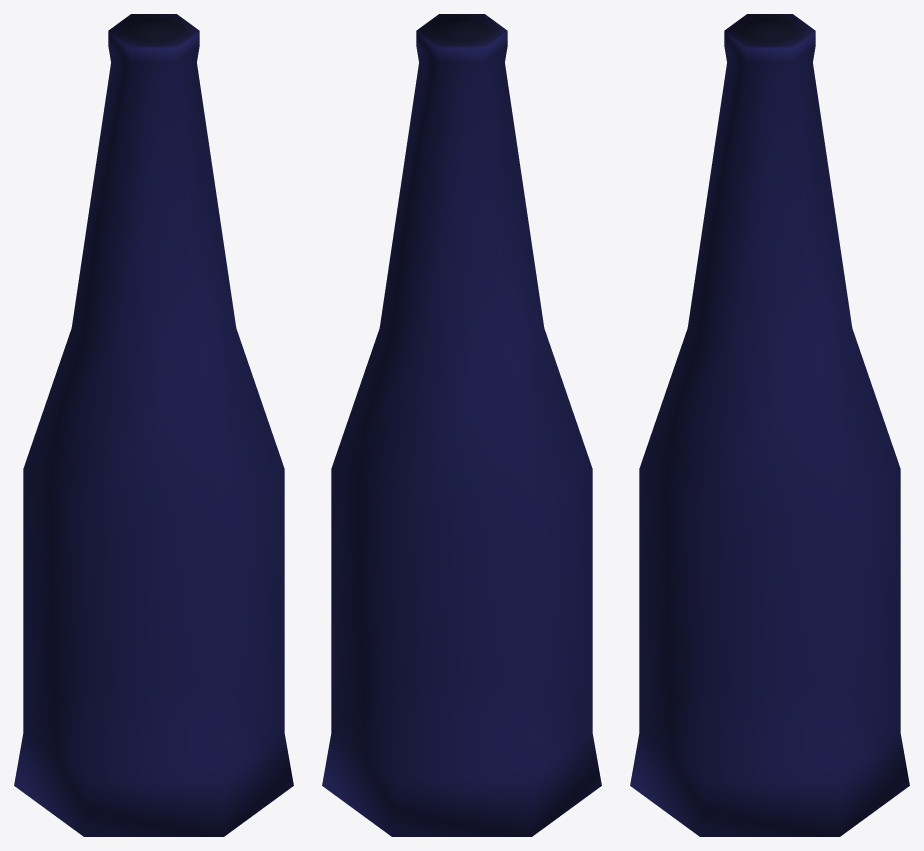
The model's file is glassbottle_1.glb.
The picture shows the model from 3 angles, left to right: view 1: azimuth 30°, elevation 25°; view 2: azimuth 150°, elevation 25°; view 3: azimuth 270°, elevation 25°; orthographic projection.
Parts seen in each view (by area): view 1: GlassBottle_1; view 2: GlassBottle_1; view 3: GlassBottle_1.
Boxes of the visible parts, left/top/right/bottom form: GlassBottle_1: left=14, top=14, right=293, bottom=836; GlassBottle_1: left=322, top=14, right=601, bottom=836; GlassBottle_1: left=630, top=14, right=909, bottom=836.
Size of the model in its own units: 0.2436 by 0.8369 by 0.2812.
Materials: 1 (1 with a texture image).
